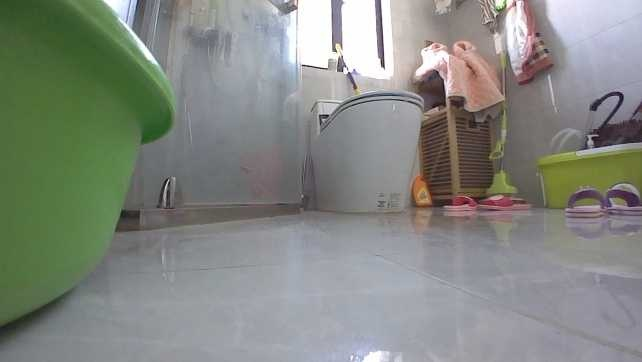slipper: (563, 183, 607, 217), (606, 181, 640, 219), (475, 192, 531, 211)
toilet: (310, 87, 425, 215)
